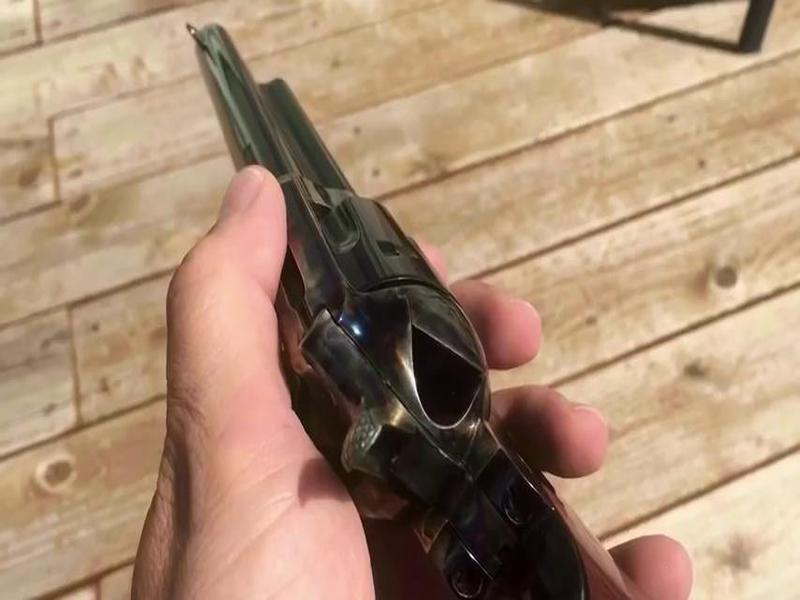Revolver: (171, 16, 323, 478)
